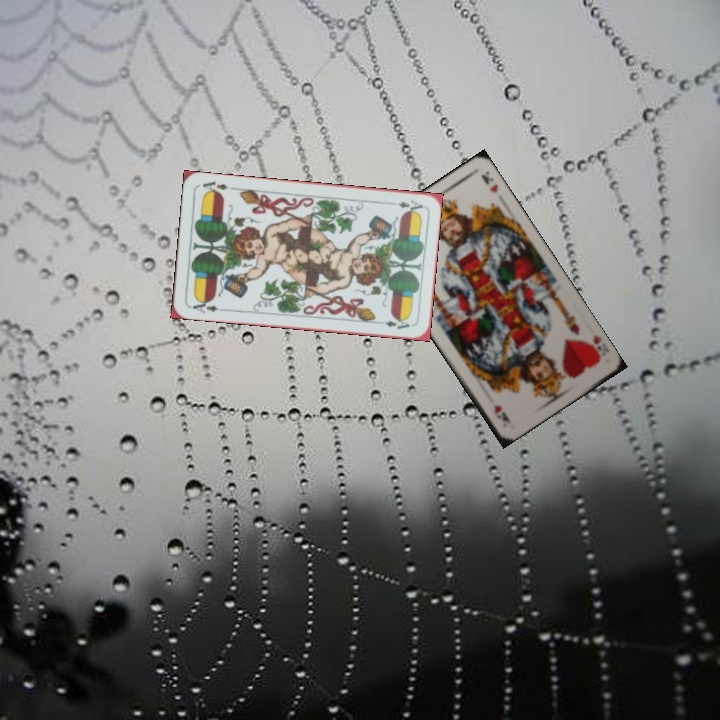EA: (189, 296, 227, 316), (385, 196, 426, 214)
HK: (582, 330, 604, 364)
